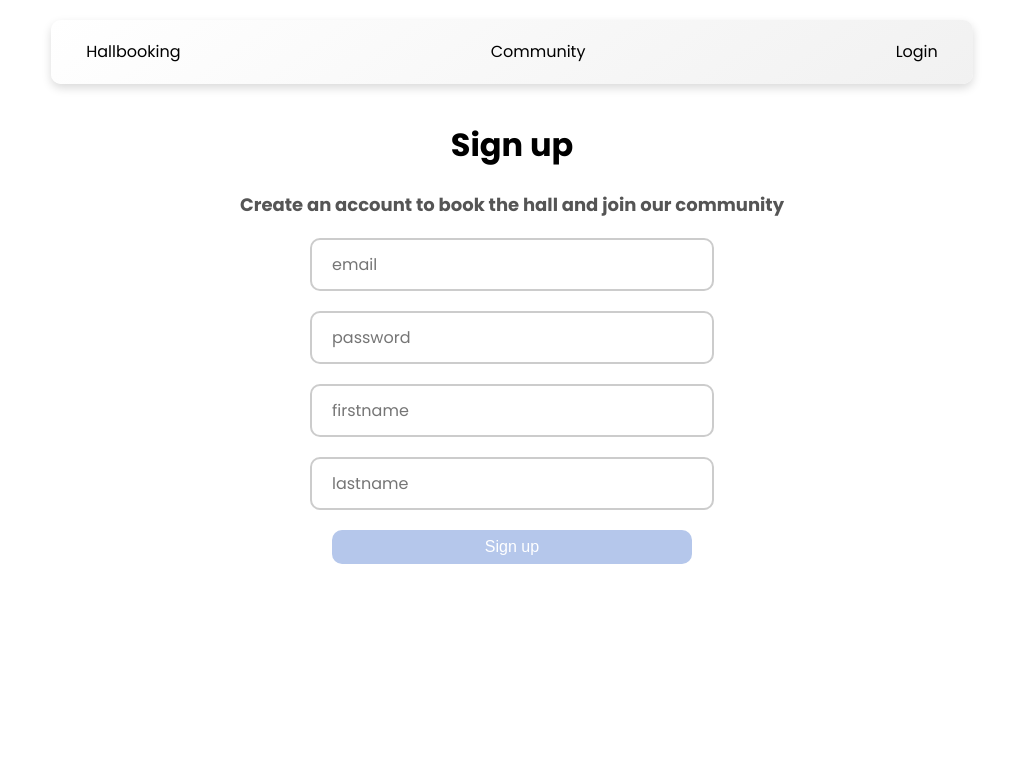
Scenario: Registration Page › should show an error message for duplicate email
# Wprowadź dane z duplikatem emaila
Type "tobiasz.podlesny@gmail.com" into the field named "email" at (512, 265), box [310,238,714,291]
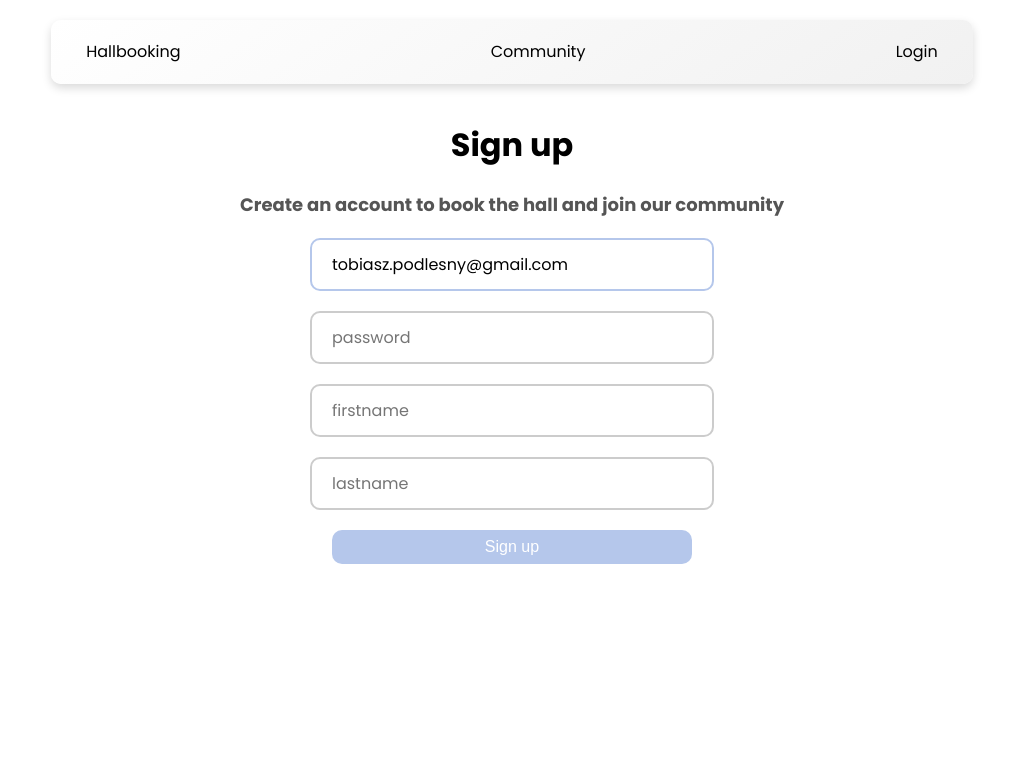
Type "password123" into the password field named "password" at (512, 338), box [310,311,714,364]
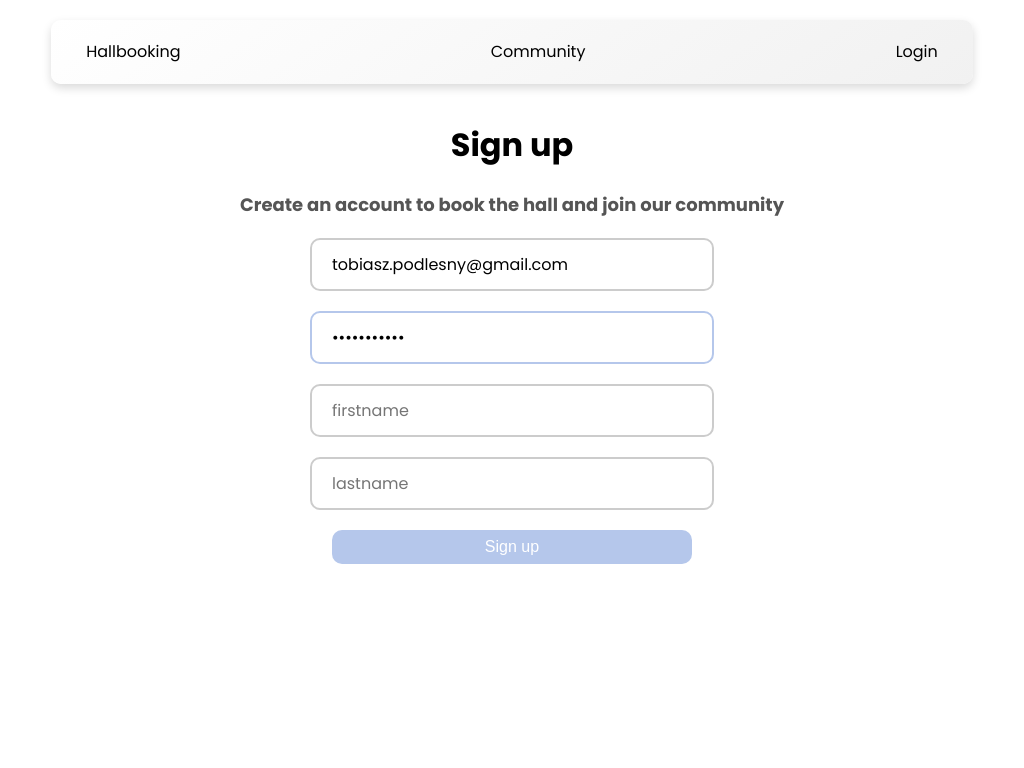
Type "John" into the field named "firstname" at (512, 411), box [310,384,714,437]
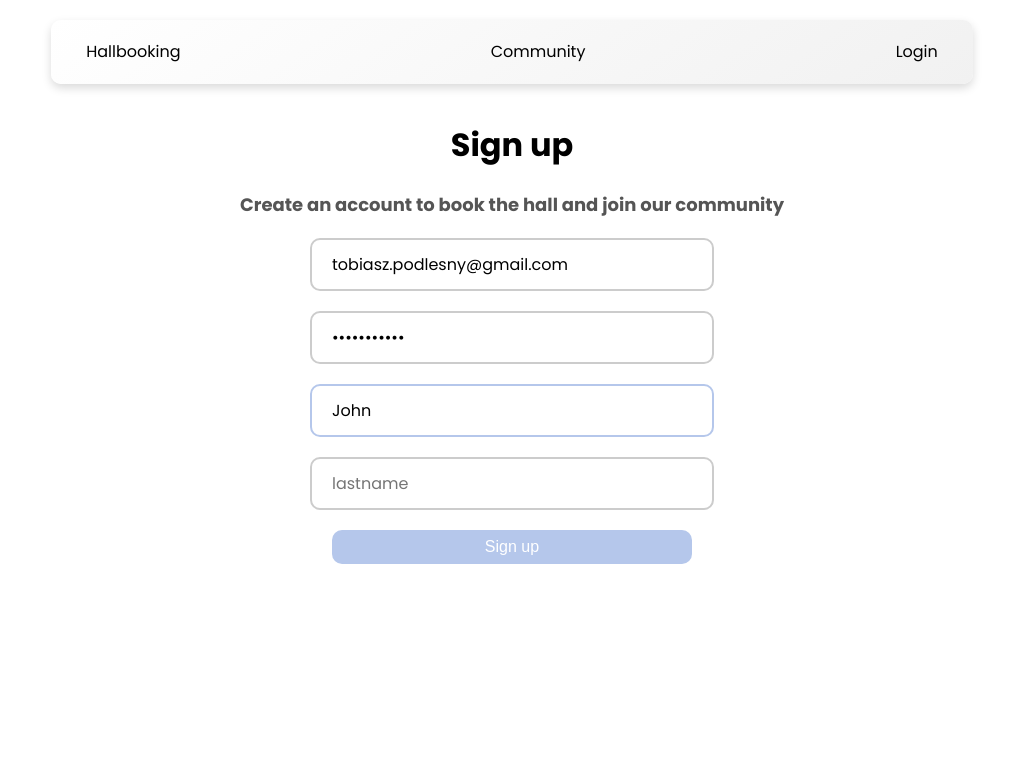
Type "Doe" into the field named "lastname" at (512, 484), box [310,457,714,510]
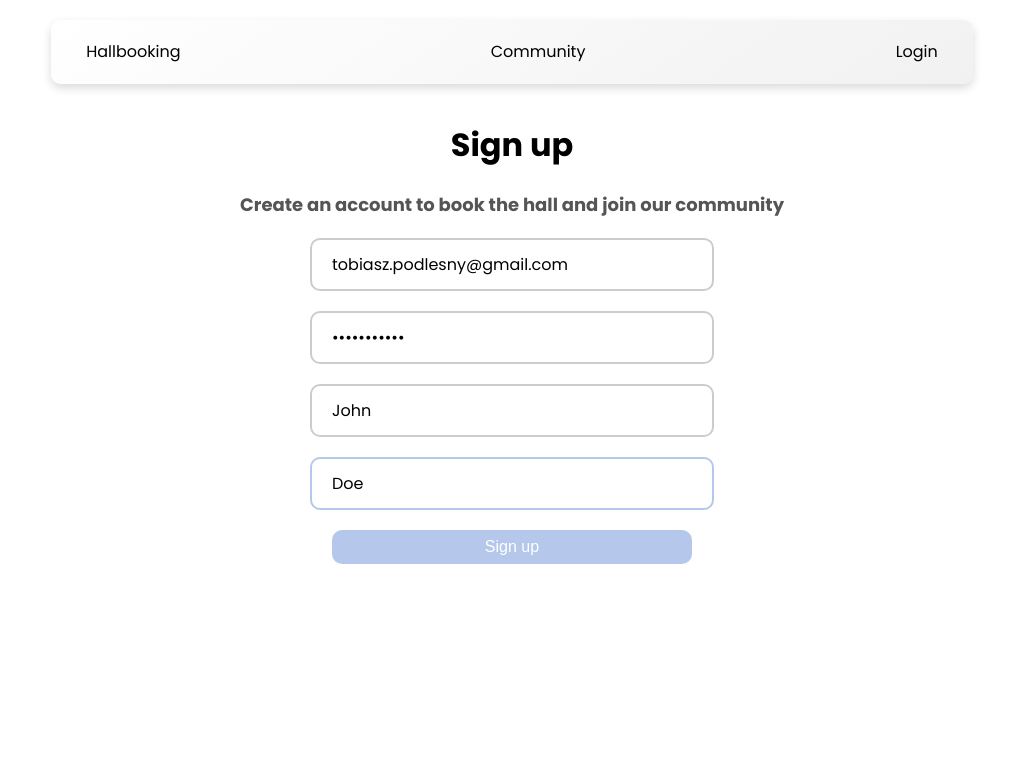
Click the button "Sign up" at (512, 547), box [332,530,692,564]
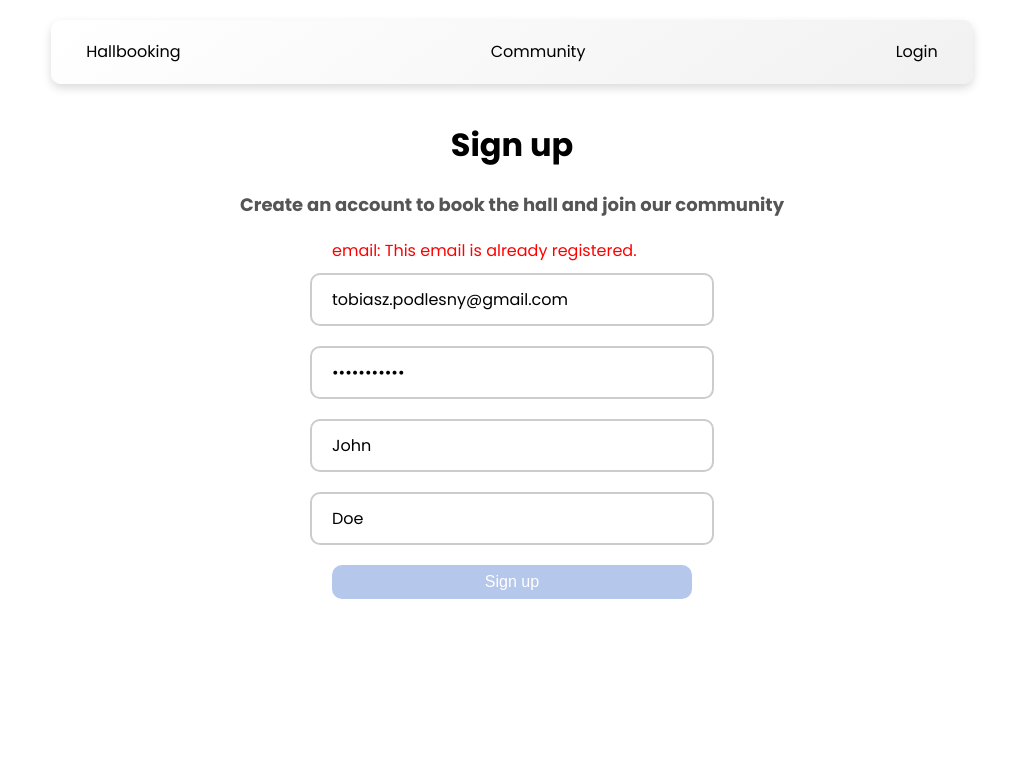
Result: the text "email: This email is already registered." is shown at [332,239,636,262]
Result: the text with class "error-message" reads "email: This email is already registered." at [332,239,637,262]
